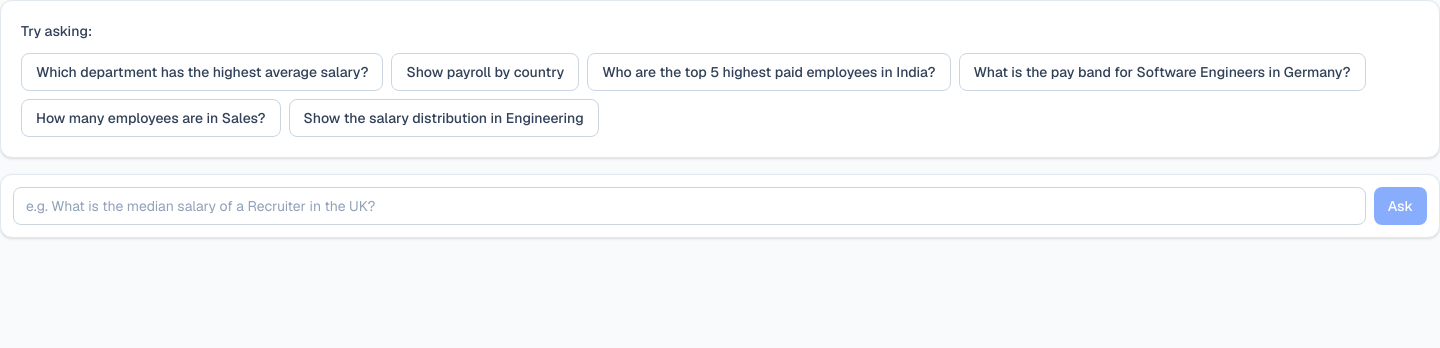
Test case: AI assistant › sends an example question and renders the verified answer table
Click the button "Which department has the highest average salary?" at (202, 72), box [21,53,383,91]
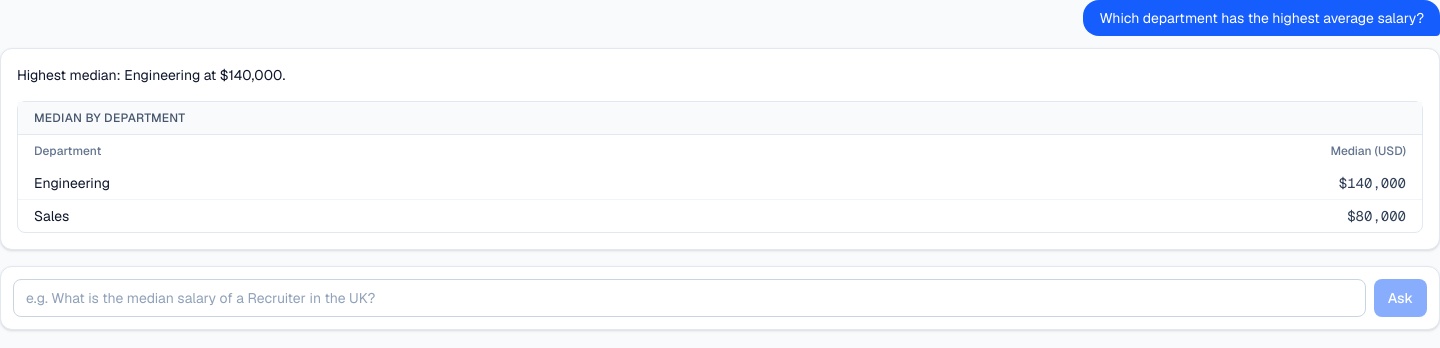
Check: the element with test id "assistant-answer" shows "Highest median: Engineering at $140,000.", box [17,66,285,84]
Check: the row "Engineering $140,000" is shown, box [18,167,1422,200]
